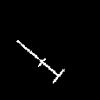double_crochet: (17, 40, 63, 82)
